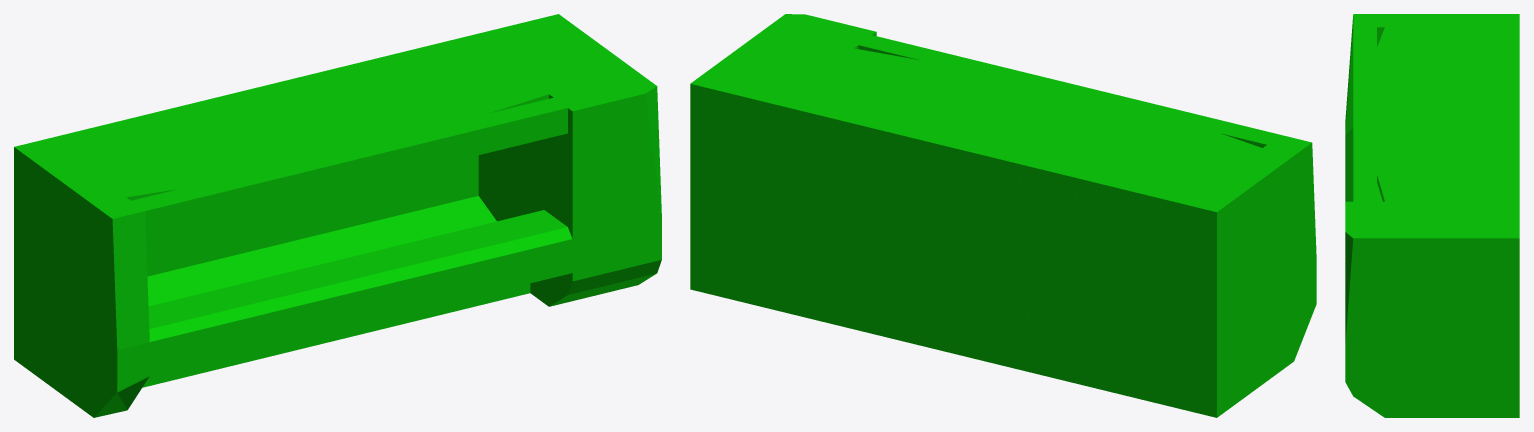
Rendered from UCX_AirCon.fbx.
3 views of the same model, side by side, from view 1: azimuth 30°, elevation 25°; view 2: azimuth 150°, elevation 25°; view 3: azimuth 270°, elevation 25° (orthographic). The views are drawn at different scales.
Parts seen in each view (by area): view 1: UCX_AirCon; view 2: UCX_AirCon; view 3: UCX_AirCon.
Boxes of the visible parts, x1,y1,x2,y2 form: UCX_AirCon: (14,14,661,417); UCX_AirCon: (690,14,1316,417); UCX_AirCon: (1345,14,1519,417).
Size of the model in its own units: 0.7817 by 0.2917 by 0.2567.
